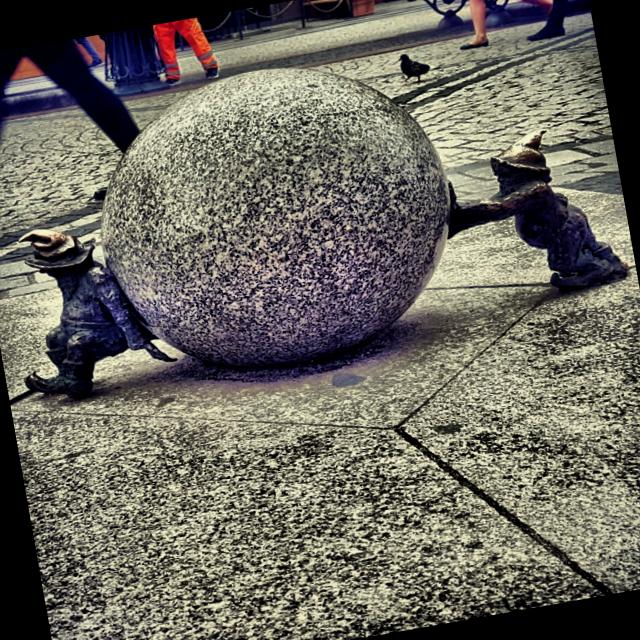Syzyfki: (0, 6, 638, 418)
